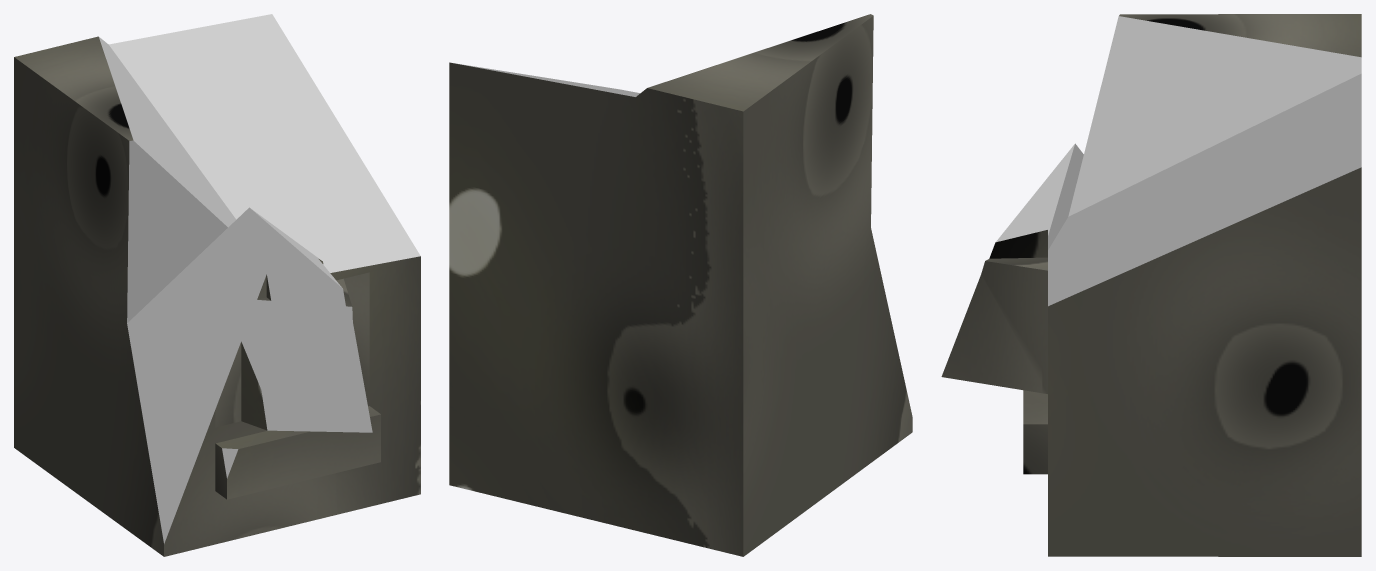
The model's file is phase3.fbx.
The picture shows the model from 3 angles, left to right: view 1: azimuth 30°, elevation 25°; view 2: azimuth 150°, elevation 25°; view 3: azimuth 270°, elevation 25°; orthographic projection. The views are drawn at different scales.
Parts seen in each view (by area): view 1: shard8, shard3, shard5, shard4, shard6; view 2: shard3, shard4, shard7, shard6, shard5, shard8; view 3: shard5, shard6, shard3, shard7, shard8.
Part boxes in pixels (left/top/right/bottom): shard8: left=124, top=207, right=380, bottom=556; shard3: left=14, top=36, right=236, bottom=383; shard5: left=109, top=14, right=420, bottom=393; shard4: left=14, top=296, right=126, bottom=527; shard6: left=335, top=342, right=420, bottom=514; shard3: left=525, top=14, right=873, bottom=383; shard4: left=572, top=229, right=869, bottom=556; shard7: left=449, top=186, right=665, bottom=440; shard6: left=449, top=413, right=738, bottom=555; shard5: left=449, top=62, right=639, bottom=246; shard8: left=868, top=228, right=912, bottom=464; shard5: left=1040, top=73, right=1361, bottom=450; shard6: left=1030, top=343, right=1361, bottom=556; shard3: left=1068, top=14, right=1361, bottom=216; shard7: left=1150, top=337, right=1361, bottom=515; shard8: left=941, top=143, right=1083, bottom=474.
Bounding box in the file's own units: 2.67 × 3.86 × 3.58.
